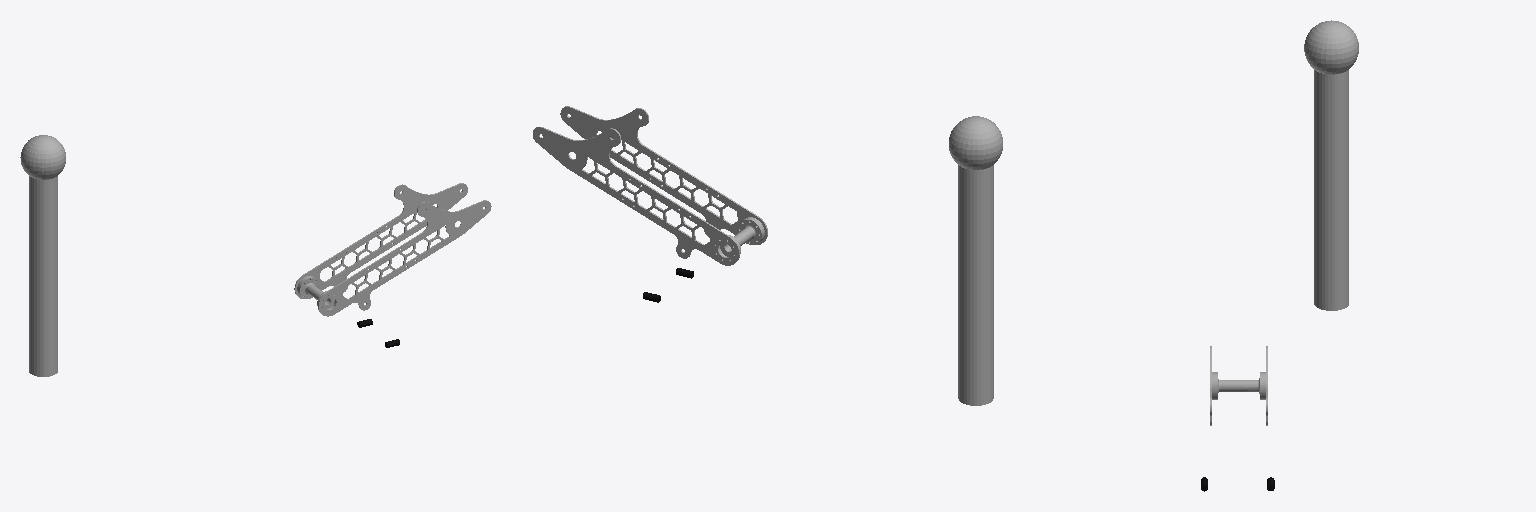
URDF robot description (rover):
<?xml version="1.0"?>
<robot name="rover">

  <material name="gray">
    <color rgba="0.7 0.7 0.7 5"/>
  </material>
  <material name="black">
    <color rgba="0.2 0.2 0.2 2"/>
  </material>
  <material name="chasis">
    <color rgba="0.4 0 0 2"/>
  </material>
  <material name="joint">
    <color rgba="0.4 0 0 2"/>
  </material>

  <link name="base_link">
    <visual>
      <geometry>
        <box size="0.0001 0.0001 0.000033"/>
      </geometry>
    </visual>
  </link>

  <link name="base_pitch">
    <visual>
      <geometry>
        <box size="0.0001 0.0001 0.000033"/>
      </geometry>
    </visual>
  </link>

  <link name="base_roll">
    <visual>
      <geometry>
        <box size="0.0001 0.0001 0.000033"/>
      </geometry>
    </visual>
  </link>

  <joint name="base_link_to_base_pitch" type="revolute">
    <axis xyz="0 0 1"/>
    <limit effort="1000.0" lower="-7" upper="7" velocity=".1"/>
    <parent link="base_link"/>
    <child link="base_pitch"/>
    <origin xyz="0 0 -.000033"/>
  </joint>

  <joint name="base_pitch_to_base_roll" type="revolute">
    <axis xyz="0 1 0"/>
    <limit effort="1000.0" lower="-0.6" upper="0.6" velocity=".1"/>
    <parent link="base_pitch"/>
    <child link="base_roll"/>
    <origin xyz="0 0 -.000066"/>
  </joint>
  
  <link name="chasis">
    <visual>
      <geometry>
        <mesh filename="package://model/meshes/chasis.STL" scale="0.001 0.001 0.001"/>
      </geometry>
      <origin rpy="1.5708 0 0" xyz="-1.08 0.524 -4.175"/>
      <material name="gray"/>
    </visual>
  </link>

  <joint name="base_roll_to_chasis" type="revolute">
    <axis xyz="1 0 0"/>
    <limit effort="1000.0" lower="-0.6" upper="0.6" velocity=".1"/>
    <parent link="base_roll"/>
    <child link="chasis"/>
    <origin xyz="0 0 -0.0001"/>
  </joint>
  
  <link name="right">
    <visual>
      <geometry>
        <mesh filename="package://model/meshes/boogie1.STL" scale="0.001 0.001 0.001"/>
      </geometry>
      <origin rpy="1.5708 0 0" xyz="-0.888 0.846 -4.165"/>
      <material name="gray"/>
    </visual>
  </link>

  <link name="left">
    <visual>
      <geometry>
        <mesh filename="package://model/meshes/boogie2.STL" scale="0.001 0.001 0.001"/>
      </geometry>
      <origin rpy="1.5708 0 0" xyz="-0.888 0.202 -4.165"/>
      <material name="gray"/>
    </visual>
  </link>

  <link name="right2">
    <visual>
      <geometry>
        <mesh filename="package://model/meshes/rocker1.STL" scale="0.001 0.001 0.001"/>
      </geometry>
      <origin rpy="1.5708 0 3.1416" xyz="1.275 -0.232 -4.165"/>
      <material name="gray"/>
    </visual>
  </link>

  <link name="left2">
    <visual>
      <geometry>
        <mesh filename="package://model/meshes/rocker2.STL" scale="0.001 0.001 0.001"/>
      </geometry>
      <origin rpy="1.5708 0 3.1416" xyz="1.275 -0.817 -4.165"/>
      <material name="gray"/>
    </visual>
  </link>

  <link name="stick">
    <visual>
      <geometry>
        <cylinder length="0.5" radius="0.032"/>
      </geometry>
      <origin rpy="0 0 1.5708" xyz="0 0 0.25"/>
      <material name="gray"/>
    </visual>
  </link>

  <link name="camera">
    <visual>
      <geometry>
        <sphere radius="0.05"/>
      </geometry>
      <origin xyz="0 0 0"/>
      <material name="gray"/>
    </visual>
  </link>
  
   <joint name="chasis_to_right" type="revolute">
    <axis xyz="0 1 0"/>
    <limit effort="1000.0" lower="-0.6" upper="0.6" velocity=".1"/>
    <parent link="chasis"/>
    <child link="right"/>
    <origin xyz="0.195 -0.282 -.012"/>
  </joint>

  <joint name="chasis_to_right2" type="revolute">
    <axis xyz="0 1 0"/>
    <limit effort="1000.0" lower="-0.6" upper="0.6" velocity=".1"/>
    <parent link="chasis"/>
    <child link="right2"/>
    <origin xyz="-0.195 -0.312 -.012"/>
  </joint>

  <joint name="chasis_to_left" type="revolute">
    <axis xyz="0 1 0"/>
    <limit effort="1000.0" lower="-0.6" upper="0.6" velocity=".1"/>
    <parent link="chasis"/>
    <child link="left"/>
    <origin xyz="0.195 0.282 -.012"/>
  </joint>

  <joint name="chasis_to_left2" type="revolute">
    <axis xyz="0 1 0"/>
    <limit effort="1000.0" lower="-0.6" upper="0.6" velocity=".1"/>
    <parent link="chasis"/>
    <child link="left2"/>
    <origin xyz="-0.195 0.312 -.012"/>
  </joint>

  <joint name="rover_to_stick" type="fixed">
    <parent link="chasis"/>
    <child link="stick"/>
    <origin xyz="-0.3925 0.17 0"/>
  </joint>

  <joint name="stick_to_camera" type="revolute">
   <axis xyz="0 1 1"/>
    <limit effort="1000.0" lower="-0.6" upper="0.6" velocity=".1"/>
    <parent link="stick"/>
    <child link="camera"/>
    <origin xyz="0 0 0.51"/>
  </joint>

  <joint name="chasis_to_zed" type="fixed">
    <parent link="chasis"/>
    <child link="zed_center"/>
    <origin xyz="0.35  0 -.015"/>
  </joint>


   <link name="zed_left_camera">
        <visual>
            <origin xyz="0 0 0" rpy="0 1.57 0"/>
            <geometry>
                <cylinder radius="0.007" length=".031"/>
            </geometry>
            <material name="dark_grey">
                <color rgba="0.1 0.1 0.1 1"/>
            </material>
        </visual>
    </link>
    <link name="zed_center">
        <visual>
            <origin xyz="0 0 0" rpy="0 0 0"/>
            <geometry>
                <mesh filename="package://model//urdf/ZED.stl" />
            </geometry>
            <material name="light_grey">
                <color rgba="0.8 0.8 0.8 2"/>
            </material>
        </visual>
    </link>
    <link name="zed_right_camera">
        <visual>
            <origin xyz="0 0 0" rpy="0 1.57 0"/>
            <geometry>
                <cylinder radius="0.007" length=".031"/>
            </geometry>
            <material name="dark_grey">
                <color rgba="0.1 0.1 0.1 1"/>
            </material>
        </visual>
    </link>
    <link name="zed_depth_camera" />

    <joint name="zed_left_camera_joint" type="fixed">
        <parent link="zed_center"/>
        <child link="zed_left_camera"/>
        <origin xyz="0 0.06 0" rpy="0 0 0" />
    </joint>
    <joint name="zed_depth_camera_joint" type="fixed">
        <parent link="zed_left_camera"/>
        <child link="zed_depth_camera"/>
        <origin xyz="0 0 0" rpy="-1.5707963267948966 0 -1.5707963267948966" />
    </joint>

    <joint name="zed_right_camera_joint" type="fixed">
        <parent link="zed_center"/>
        <child link="zed_right_camera"/>
        <origin xyz="0 -0.06 0" rpy="0 0 0" />
    </joint>




  <link name="arm_base">
    <visual>
      <geometry>
        <mesh filename="package://model/meshes/arm1.STL" scale="0.001 0.001 0.001"/>
      </geometry>
      <origin rpy="1.5708 0 -0.43" xyz="-0.015 0.20 0"/>
      <material name="gray"/>
    </visual>
  </link>
  
  <link name="elbow">
    <visual>
      <geometry>
        <mesh filename="package://model/meshes/arm2.STL" scale="0.001 0.001 0.001"/>
      </geometry>
      <origin rpy="1.5708 0 0" xyz="-0.03 0.1 -0.04"/>
      <material name="gray"/>
    </visual>
  </link>

  <link name="forearm">
    <visual>
      <geometry>
        <mesh filename="package://model/meshes/arm3.STL" scale="0.001 0.001 0.001"/>
      </geometry>
      <origin rpy="1.5708 0 0" xyz="-0.03 0.08875 -0.03"/>
      <material name="gray"/>
    </visual>
  </link>

  <link name="wrist">
    <visual>
      <geometry>
        <mesh filename="package://model/meshes/UpDown.STL" scale="0.001 0.001 0.001"/>
      </geometry>
      <origin rpy="1.5708 0 0.06" xyz="-0.03 0.12875 -0.06"/>
      <material name="gray"/>
    </visual>
  </link>

  <link name="rotation">
    <visual>
      <geometry>
        <mesh filename="package://model/meshes/rotate.STL" scale="0.001 0.001 0.001"/>
      </geometry>
      <origin rpy="1.5708 0 0" xyz="-0.194 0.153 -0.001"/>
      <material name="gray"/>
    </visual>
  </link>

  <link name="finger">
    <visual>
      <geometry>
        <mesh filename="package://model/meshes/finger.STL" scale="0.001 0.001 0.001"/>
      </geometry>
      <origin rpy="1.5708 0 0" xyz="-0.02 0.03 -0.055"/>
      <material name="gray"/>
    </visual>
  </link>

  <joint name="base_to_elbow" type="revolute">
    <axis xyz="0 1 0"/>
    <limit effort="1000.0" lower="-3.1416" upper="3.1416" velocity=".1"/>
    <parent link="arm_base"/>
    <child link="elbow"/>
    <origin xyz="0 0 0.115"/>
  </joint>

  <joint name="elbow_to_arm" type="revolute">
    <axis xyz="0 1 0"/>
    <limit effort="1000.0" lower="-3.1416" upper="3.1416" velocity=".1"/>
    <parent link="elbow"/>
    <child link="forearm"/>
    <origin xyz="0.32 0 0.11"/>
  </joint>

  <joint name="arm_to_wrist" type="revolute">
    <axis xyz="0 1 0"/>
    <limit effort="1000.0" lower="-3.1416" upper="3.1416" velocity=".1"/>
    <parent link="forearm"/>
    <child link="wrist"/>
    <origin xyz="0.285 0 0.1"/>
  </joint>

  <joint name="wrist_to_rotate" type="revolute">
    <axis xyz="0 0 1"/>
    <limit effort="1000.0" lower="-3.1416" upper="3.1416" velocity=".1"/>
    <parent link="wrist"/>
    <child link="rotation"/>
    <origin xyz="0 0 0.055"/>
  </joint>

  <joint name="rotate_to_finger" type="prismatic">
    <axis xyz="1 0 0"/>
    <limit effort="1000.0" lower="0" upper="0.08" velocity=".1"/>
    <parent link="rotation"/>
    <child link="finger"/>
    <origin xyz="-0.06 0 0.095"/>
  </joint>

   <joint name="base" type="revolute">
    <axis xyz="0 0 1"/>
    <limit effort="1000.0" lower="-0.6" upper="0.6" velocity=".1"/>
    <parent link="chasis"/>
    <child link="arm_base"/>
    <origin xyz="0.20  0 0"/>
  </joint>

</robot>

--- What the picture shows (computed from the rendered views, not written in the file) ---
The picture shows the robot from 3 angles, left to right: view 1: azimuth 30°, elevation 25°; view 2: azimuth 150°, elevation 25°; view 3: azimuth 270°, elevation 25°; orthographic projection.
Robot: rover — 20 links, 19 joints (13 revolute, 1 prismatic, 5 fixed); root link base_link; default pose: all joints at 0.
Links seen in each view (by area): view 1: elbow, stick, camera; view 2: elbow, stick, camera; view 3: stick, camera, elbow.
Boxes of the visible links, x1,y1,x2,y2 form: elbow: (294, 183, 491, 316); stick: (29, 176, 57, 376); camera: (20, 135, 65, 179); elbow: (533, 106, 767, 265); stick: (958, 165, 993, 405); camera: (949, 116, 1002, 169); stick: (1314, 70, 1348, 310); camera: (1304, 20, 1358, 74); elbow: (1210, 346, 1267, 425).
Size in the robot's own frame: 1.05 by 0.287 by 0.582 metres.
1 mesh visuals loaded from 12 distinct referenced files (1 binary STL); not drawn: 11 (reference not matched to a file when rendering).